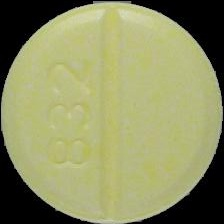0615-8001: (0, 0, 224, 224)
